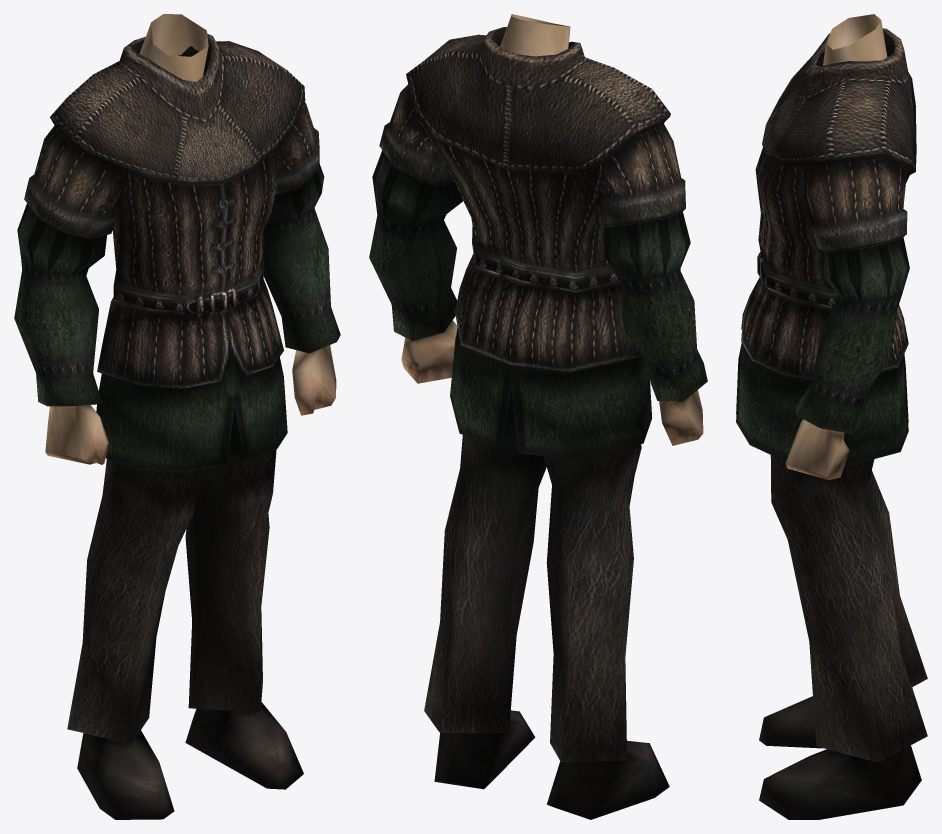
The model's file is HUM_DHT1_ARMOR.glb.
3 renders of one model, left to right at view 1: azimuth 30°, elevation 25°; view 2: azimuth 150°, elevation 25°; view 3: azimuth 270°, elevation 25°, orthographic. The views are drawn at different scales.
Parts seen in each view (by area): view 1: HUM_DHT1_ARMOR; view 2: HUM_DHT1_ARMOR; view 3: HUM_DHT1_ARMOR.
Part boxes in pixels (x1=…): HUM_DHT1_ARMOR: x1=14, y1=14, x2=340, y2=819; HUM_DHT1_ARMOR: x1=369, y1=14, x2=707, y2=819; HUM_DHT1_ARMOR: x1=736, y1=14, x2=927, y2=819.
Bounding box in the file's own units: 0.7135 × 1.69 × 0.3902.
Materials: 2 (2 with a texture image).
